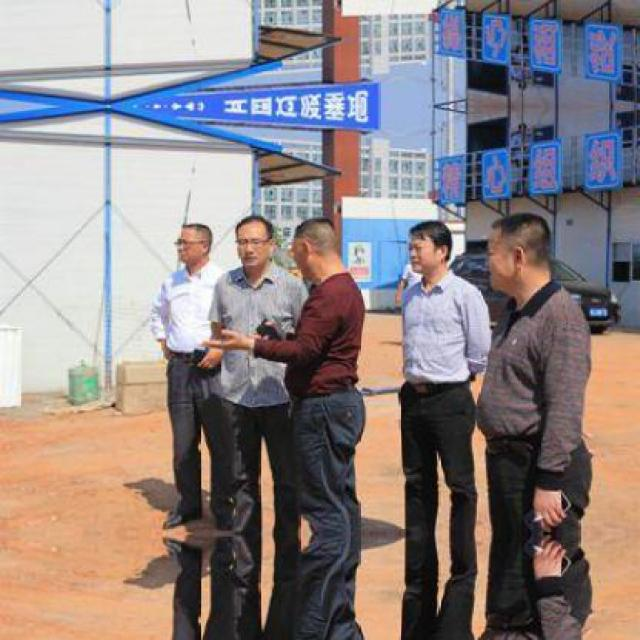Head: (486, 204, 559, 299), (289, 213, 343, 284), (231, 212, 277, 272), (406, 219, 452, 278), (171, 219, 218, 267)
